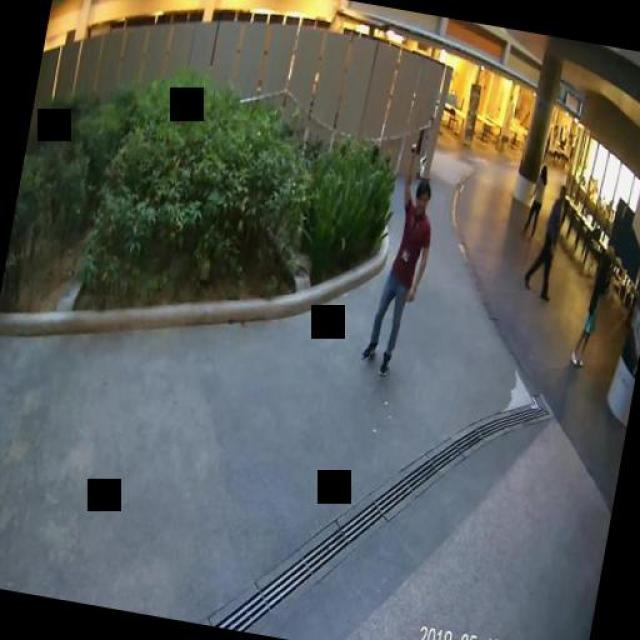gun: (408, 125, 424, 154)
